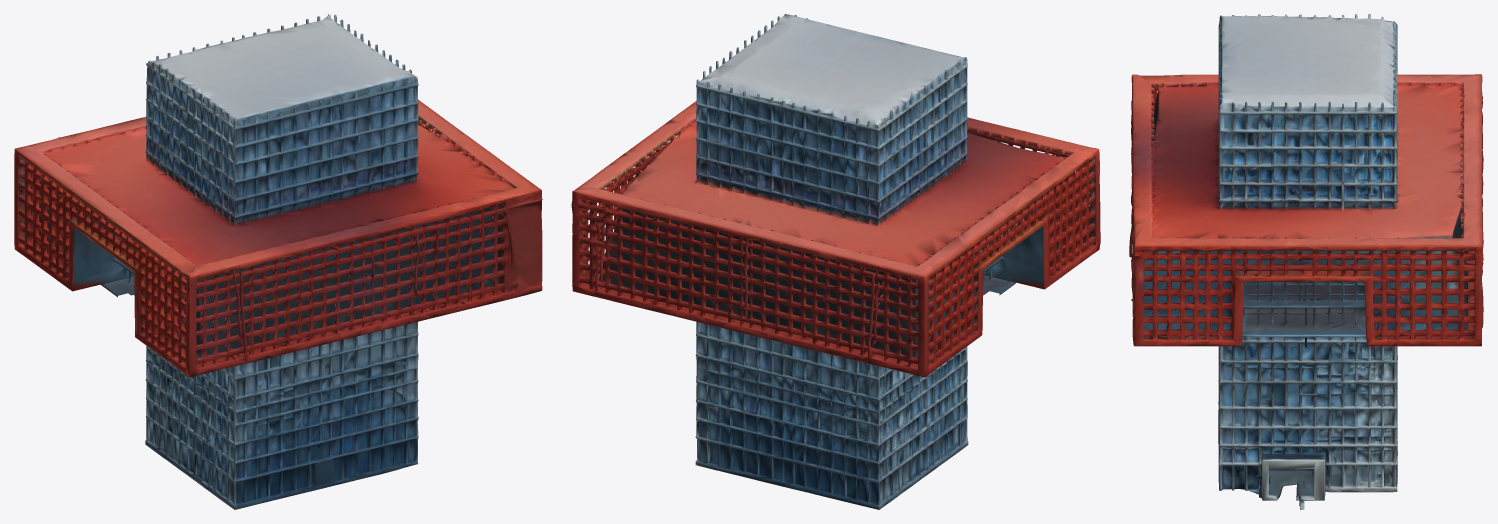
File: szse2.glb
3 views of the same model, side by side, from view 1: azimuth 30°, elevation 25°; view 2: azimuth 150°, elevation 25°; view 3: azimuth 270°, elevation 25° (orthographic).
Parts seen in each view (by area): view 1: tripo_node_a2832a6d-dc91-47c1-996d-e850d11ffd94; view 2: tripo_node_a2832a6d-dc91-47c1-996d-e850d11ffd94; view 3: tripo_node_a2832a6d-dc91-47c1-996d-e850d11ffd94.
Boxes of the visible parts, x1,y1,x2,y2 form: tripo_node_a2832a6d-dc91-47c1-996d-e850d11ffd94: (14, 14, 542, 509); tripo_node_a2832a6d-dc91-47c1-996d-e850d11ffd94: (571, 14, 1100, 509); tripo_node_a2832a6d-dc91-47c1-996d-e850d11ffd94: (1129, 14, 1483, 509).
Size of the model in its own units: 0.9453 by 1 by 0.8193.
1 material, 1 textured.
